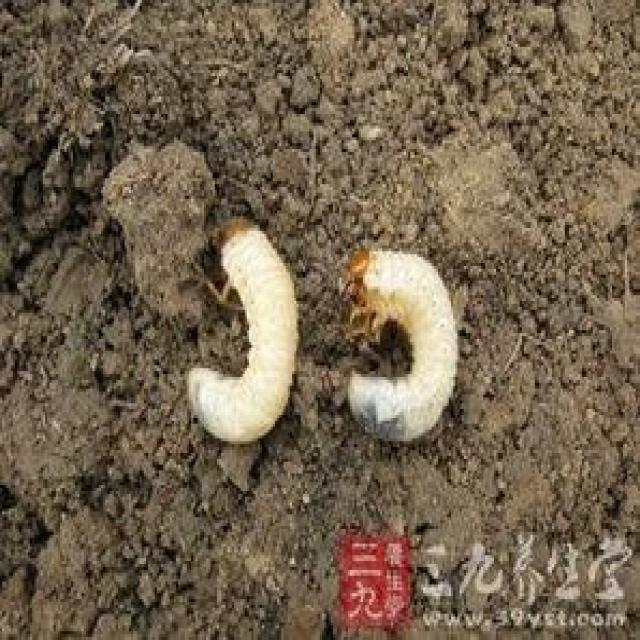grub: (185, 223, 316, 445), (335, 245, 462, 441)
